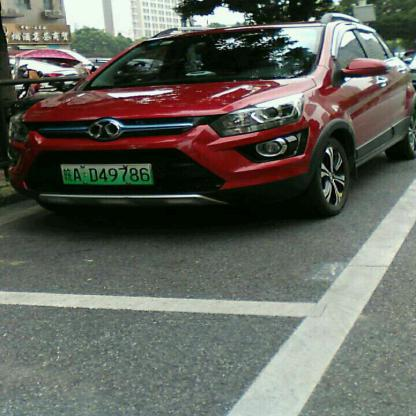lp: (60, 162, 152, 184)
